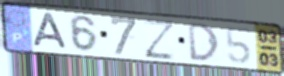5: (224, 25, 252, 65)
6: (68, 13, 100, 53)
7: (109, 16, 138, 56)
A: (32, 11, 70, 51)
D: (186, 22, 221, 63)
Z: (141, 17, 177, 62)
